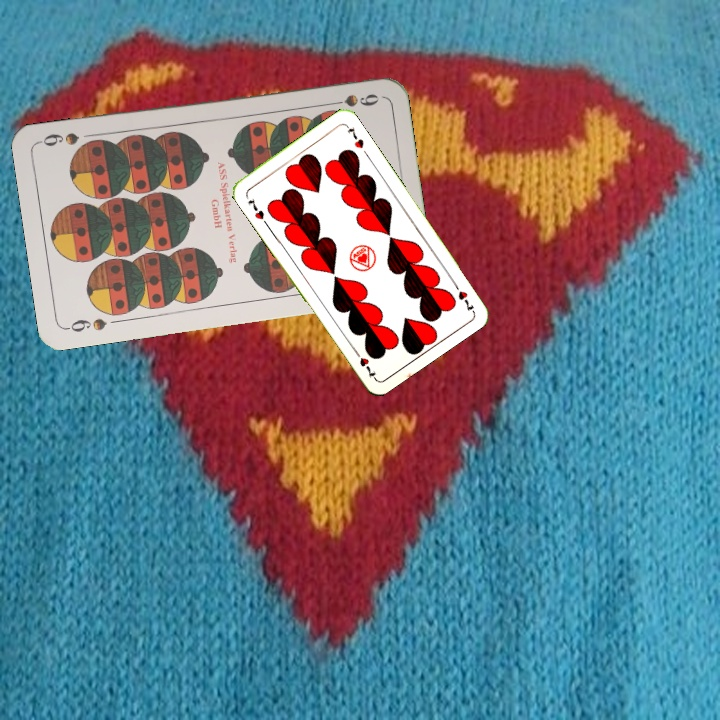H7: (449, 278, 476, 314), (244, 194, 267, 222)
S9: (323, 89, 382, 110), (62, 314, 109, 335)
